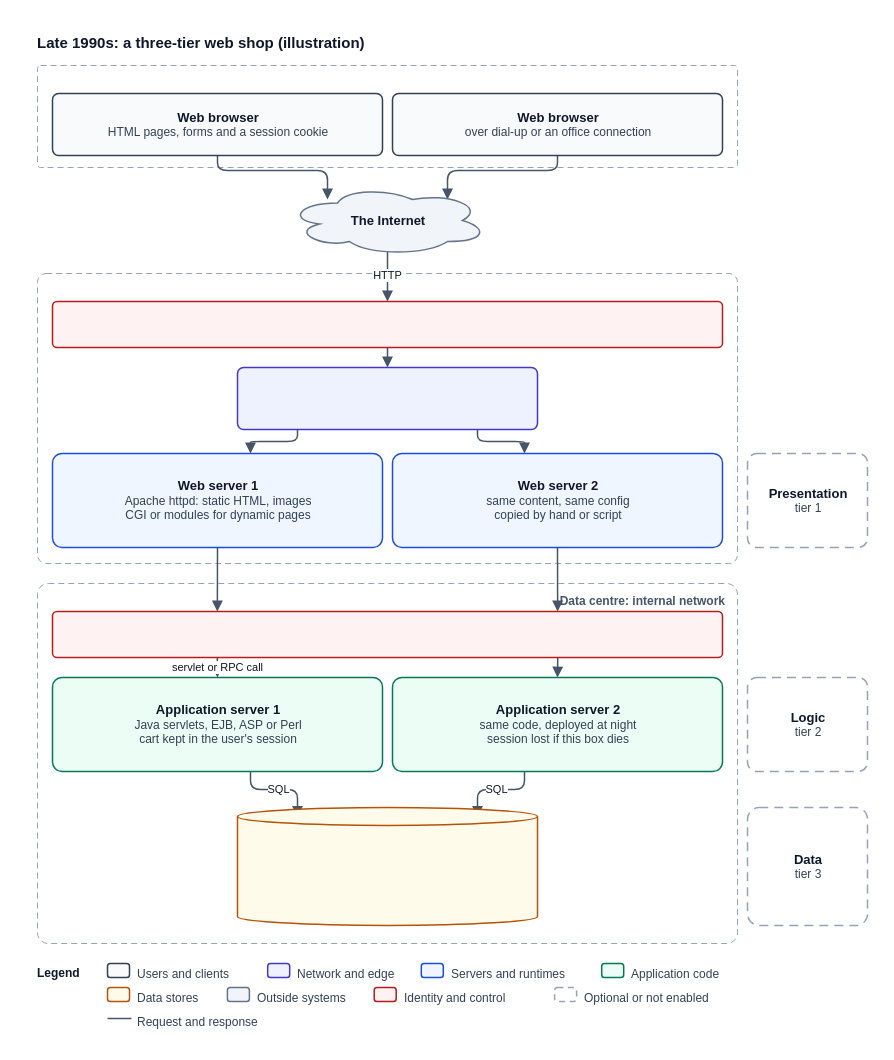
The diagram is 894 pixels wide and 1060 high, and some of its shapes have lost their labels. The shapes that lost their labels are listed below. From the top down, each one's box as (x1, y1, x2, y2) in pixels, then its label:
(36, 64, 738, 168): Customers at home and work
(51, 300, 723, 348): Firewall only HTTP (80) and HTTPS (443) come in
(236, 366, 538, 430): Load balancer spreads requests, sticky sessions
(36, 272, 738, 564): Data centre: DMZ
(51, 610, 723, 658): Second firewall the web tier may call the app tier, nothing else
(236, 806, 538, 926): Database Oracle or SQL Server, one primary customers, catalogue, orders
